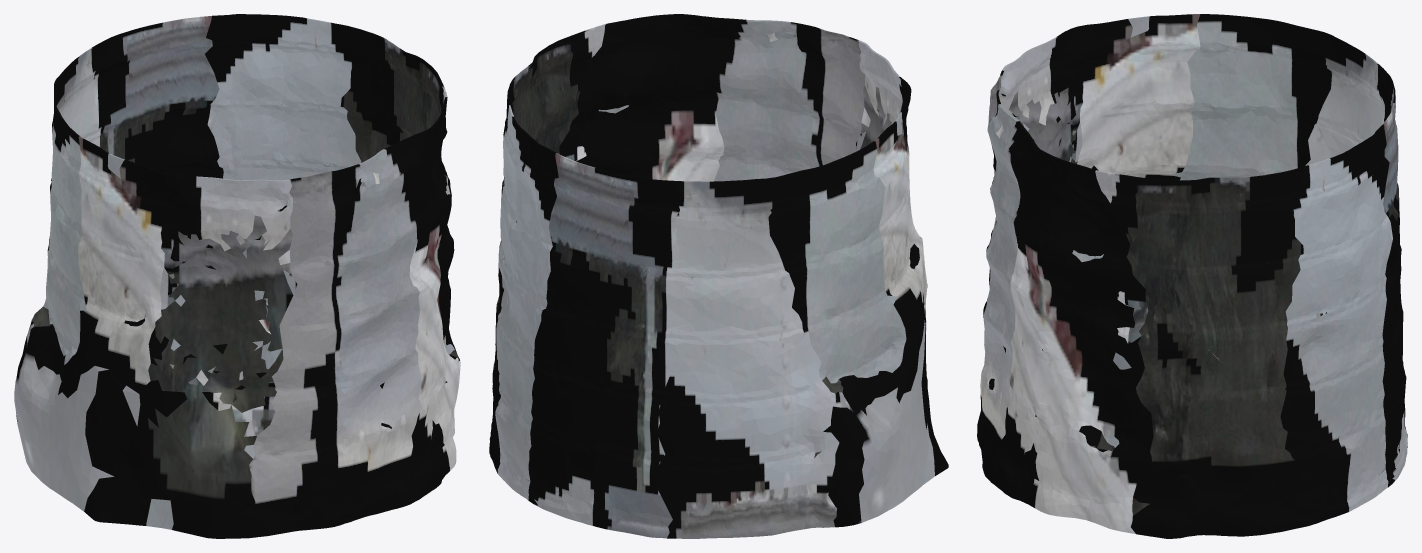
The picture shows the model from 3 angles, left to right: view 1: azimuth 30°, elevation 25°; view 2: azimuth 150°, elevation 25°; view 3: azimuth 270°, elevation 25°; orthographic projection.
Visible parts, largest first — view 1: node_14; view 2: node_14; view 3: node_14.
Part boxes in pixels (x1,y1,x2,y2): node_14: (14, 14, 460, 538); node_14: (489, 14, 948, 538); node_14: (977, 14, 1407, 538).
Bounding box in the file's own units: 4.37 × 3.75 × 4.17.
1 material, 1 textured.
